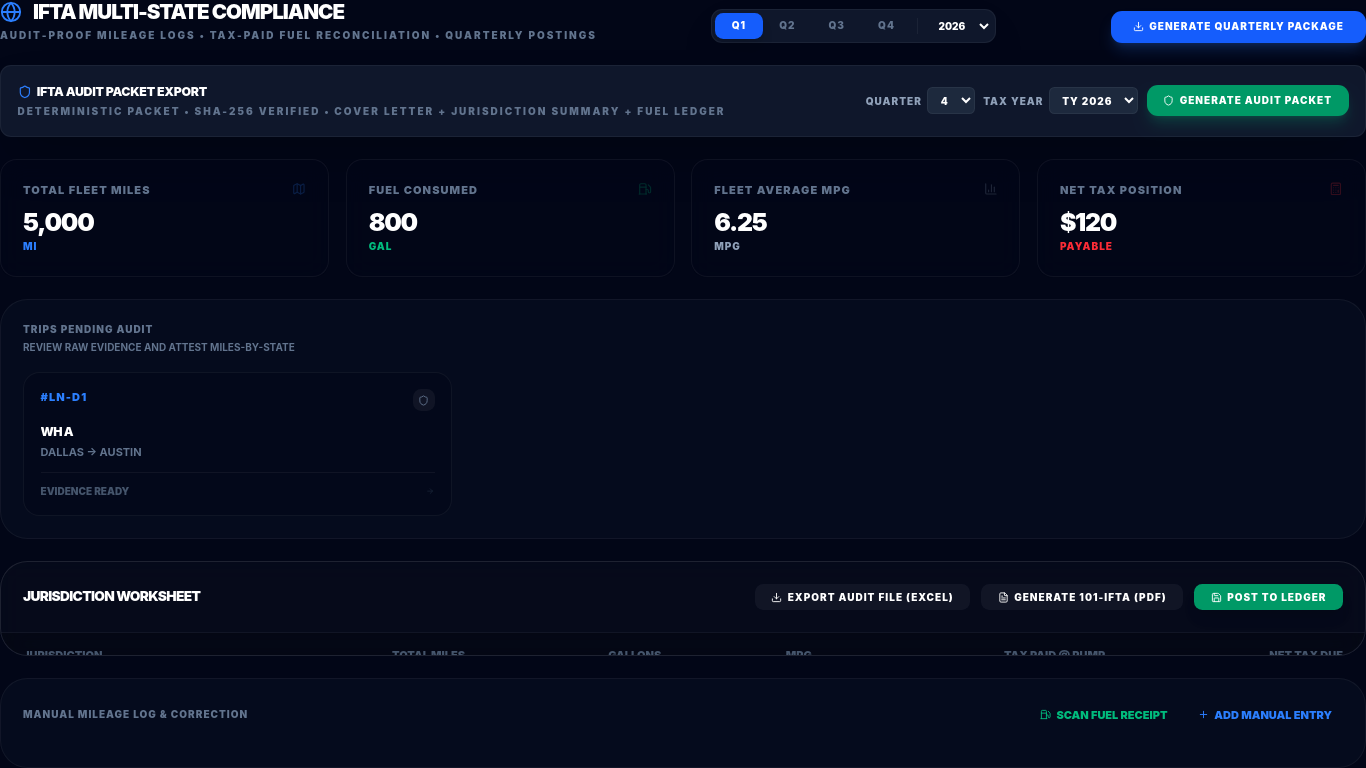
Test: IFTAManager — Audit Packet UI › Tests R-P1-14 — after a successful response, renders the 64-char packetHash and a download link
The image size is (1366, 768).
Select "4" in the dropdown named "Audit Packet Quarter" at x=951, y=100, box [927, 87, 975, 114]
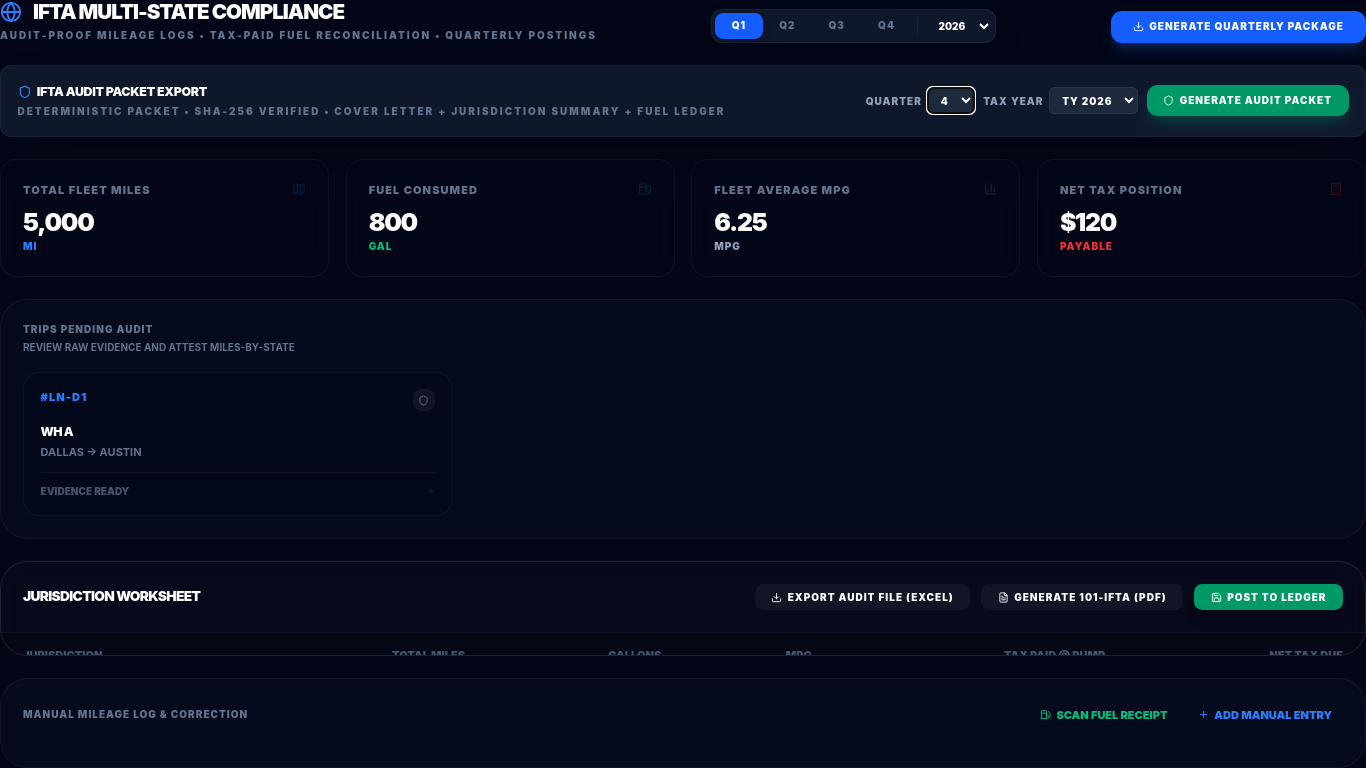
Select "TY 2025" in the dropdown named "Audit Packet Tax Year" at x=1094, y=100, box [1049, 87, 1138, 114]
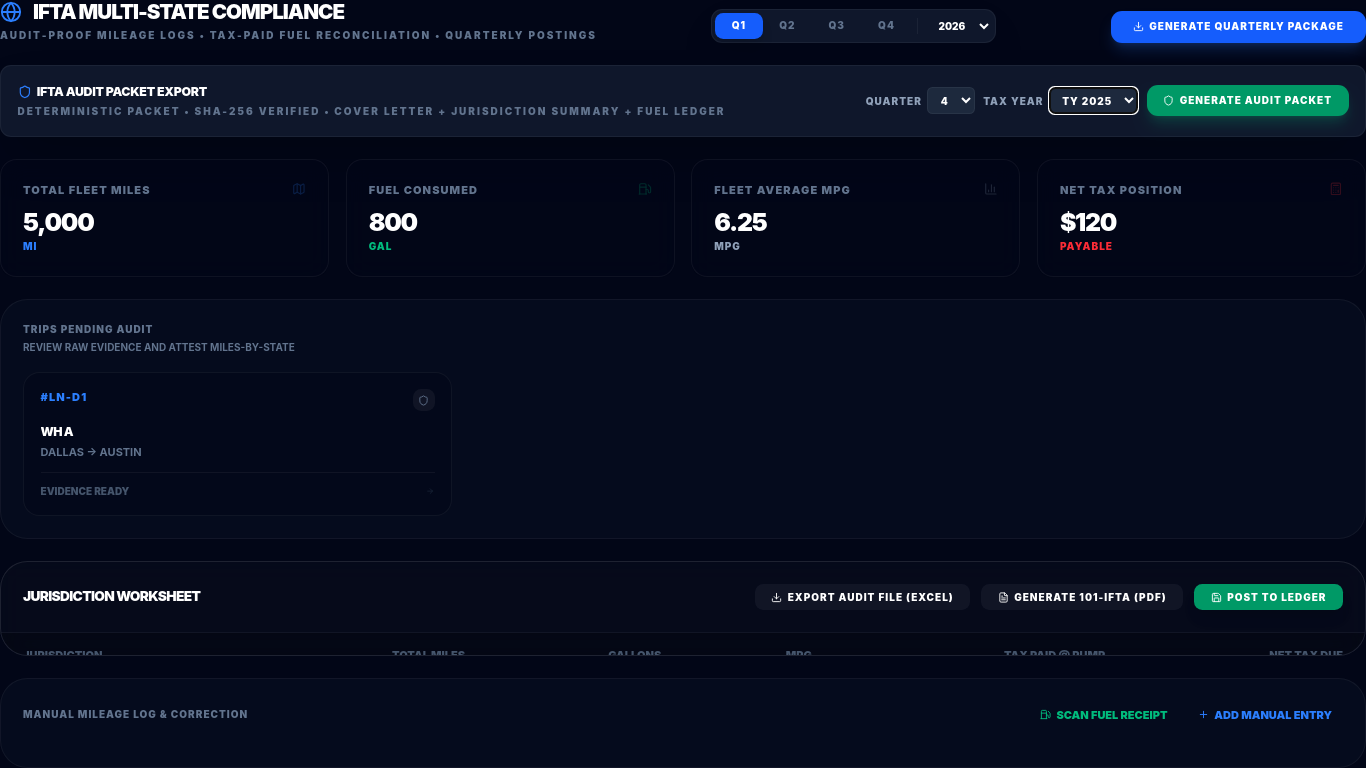
Click the button "Generate Audit Packet" at x=1248, y=101, box [1147, 85, 1348, 116]
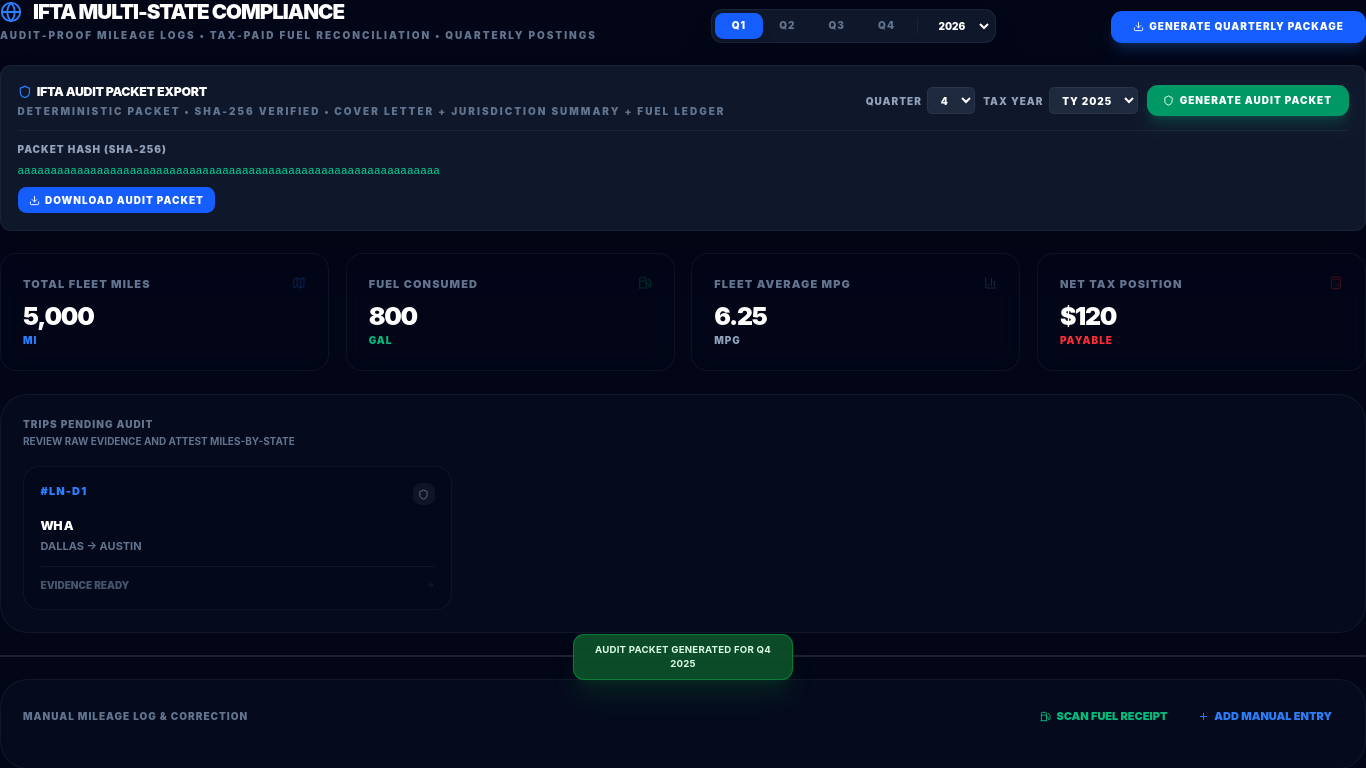
Result: the link "Download Audit Packet" is shown at [18, 187, 215, 213]
